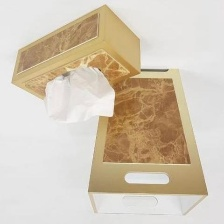plastic_box: (80, 63, 213, 224), (6, 0, 147, 107)
tissue: (37, 62, 122, 126)
